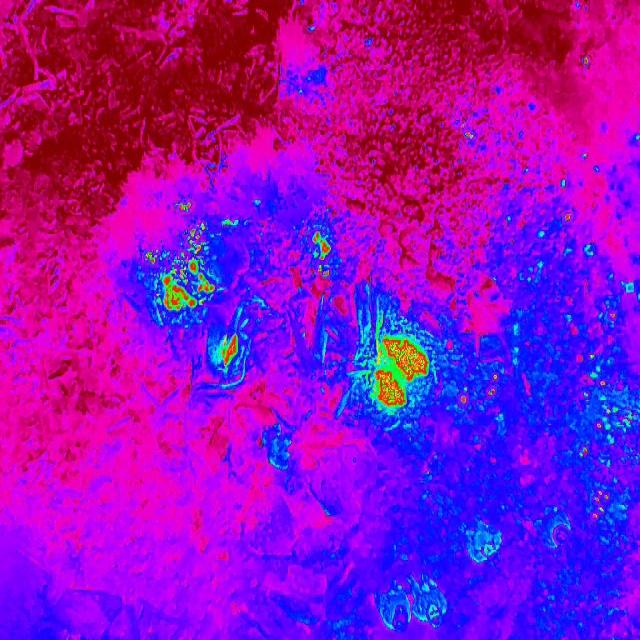fire: (530, 201, 640, 531), (354, 317, 434, 422), (143, 220, 217, 320), (454, 364, 504, 408), (210, 323, 240, 375), (308, 227, 336, 265), (172, 197, 195, 216), (460, 127, 476, 144), (580, 50, 592, 70)
